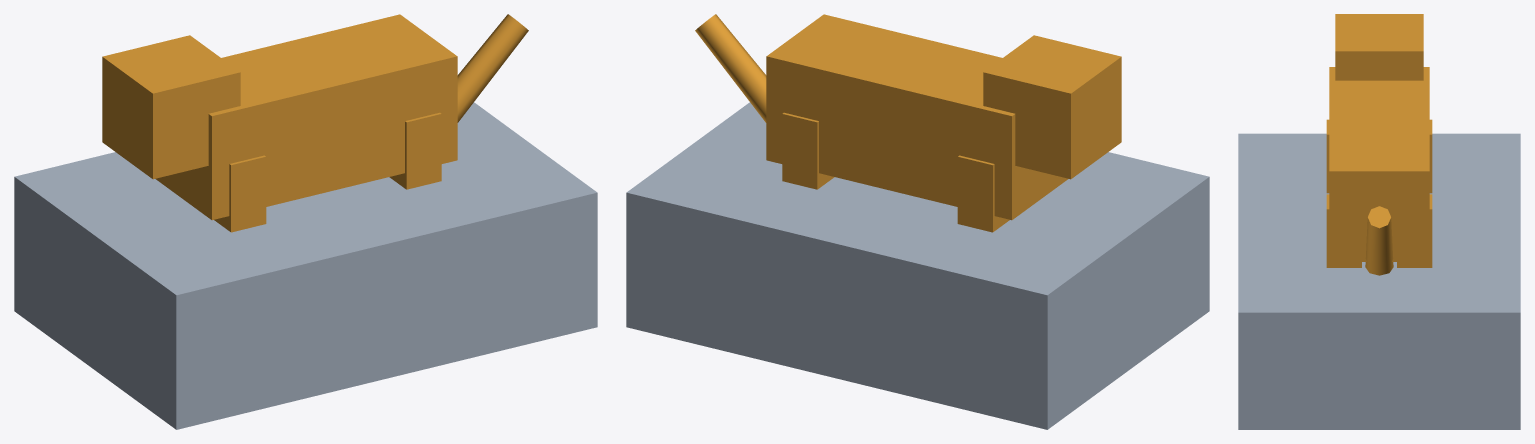
File: tiger_statue.glb
The picture shows the model from 3 angles, left to right: view 1: azimuth 30°, elevation 25°; view 2: azimuth 150°, elevation 25°; view 3: azimuth 270°, elevation 25°; orthographic projection. The views are drawn at different scales.
Parts seen in each view (by area): view 1: pedestal, body, head, tail, leg_0, leg_2; view 2: pedestal, body, head, tail, leg_1, leg_3; view 3: pedestal, body, head, tail, leg_2, leg_3, leg_0, leg_1.
Boxes of the visible parts, left/top/right/bottom form: pedestal: left=14, top=102, right=597, bottom=429; body: left=155, top=14, right=457, bottom=220; head: left=102, top=35, right=240, bottom=179; tail: left=457, top=14, right=528, bottom=122; leg_0: left=214, top=155, right=266, bottom=232; leg_2: left=389, top=112, right=441, bottom=189; pedestal: left=626, top=102, right=1209, bottom=429; body: left=766, top=14, right=1068, bottom=220; head: left=983, top=35, right=1121, bottom=179; tail: left=695, top=14, right=766, bottom=122; leg_1: left=957, top=155, right=1009, bottom=232; leg_3: left=782, top=112, right=834, bottom=189; pedestal: left=1238, top=133, right=1520, bottom=429; body: left=1329, top=67, right=1429, bottom=261; head: left=1335, top=14, right=1423, bottom=80; tail: left=1365, top=206, right=1393, bottom=275; leg_2: left=1326, top=194, right=1361, bottom=267; leg_3: left=1397, top=194, right=1432, bottom=267; leg_0: left=1326, top=119, right=1329, bottom=193; leg_1: left=1429, top=119, right=1432, bottom=193.
Bounding box in the file's own units: 3.69 × 2.35 × 2.4.
